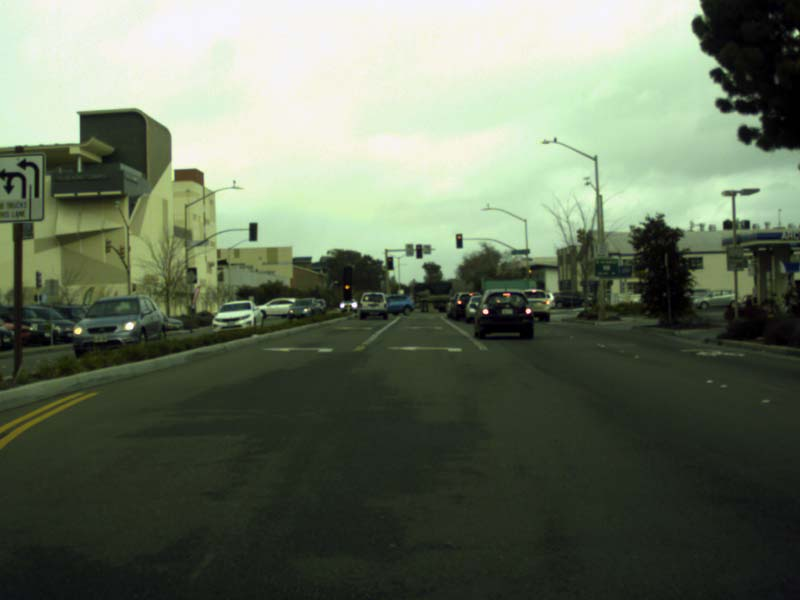Red: (344, 283, 350, 299), (416, 244, 422, 258), (387, 256, 393, 269), (456, 234, 461, 247), (528, 268, 531, 277)
